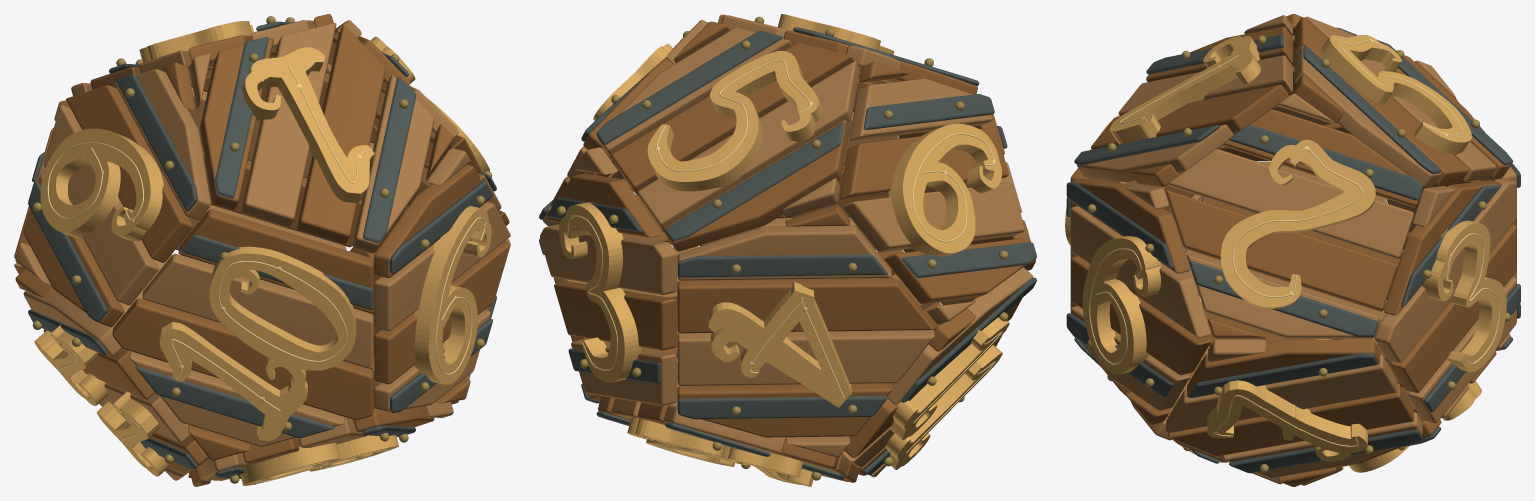
3 views of the same model, side by side, from view 1: azimuth 30°, elevation 25°; view 2: azimuth 150°, elevation 25°; view 3: azimuth 270°, elevation 25° (orthographic). The views are drawn at different scales.
Parts seen in each view (by area): view 1: Monster Dungeon d12 canonical sculpture; view 2: Monster Dungeon d12 canonical sculpture; view 3: Monster Dungeon d12 canonical sculpture.
Boxes of the visible parts, bbox=[...] form: Monster Dungeon d12 canonical sculpture: bbox=[14, 14, 510, 486]; Monster Dungeon d12 canonical sculpture: bbox=[539, 14, 1036, 486]; Monster Dungeon d12 canonical sculpture: bbox=[1065, 14, 1520, 486].
Bounding box in the file's own units: 1.67 × 1.67 × 1.68.
